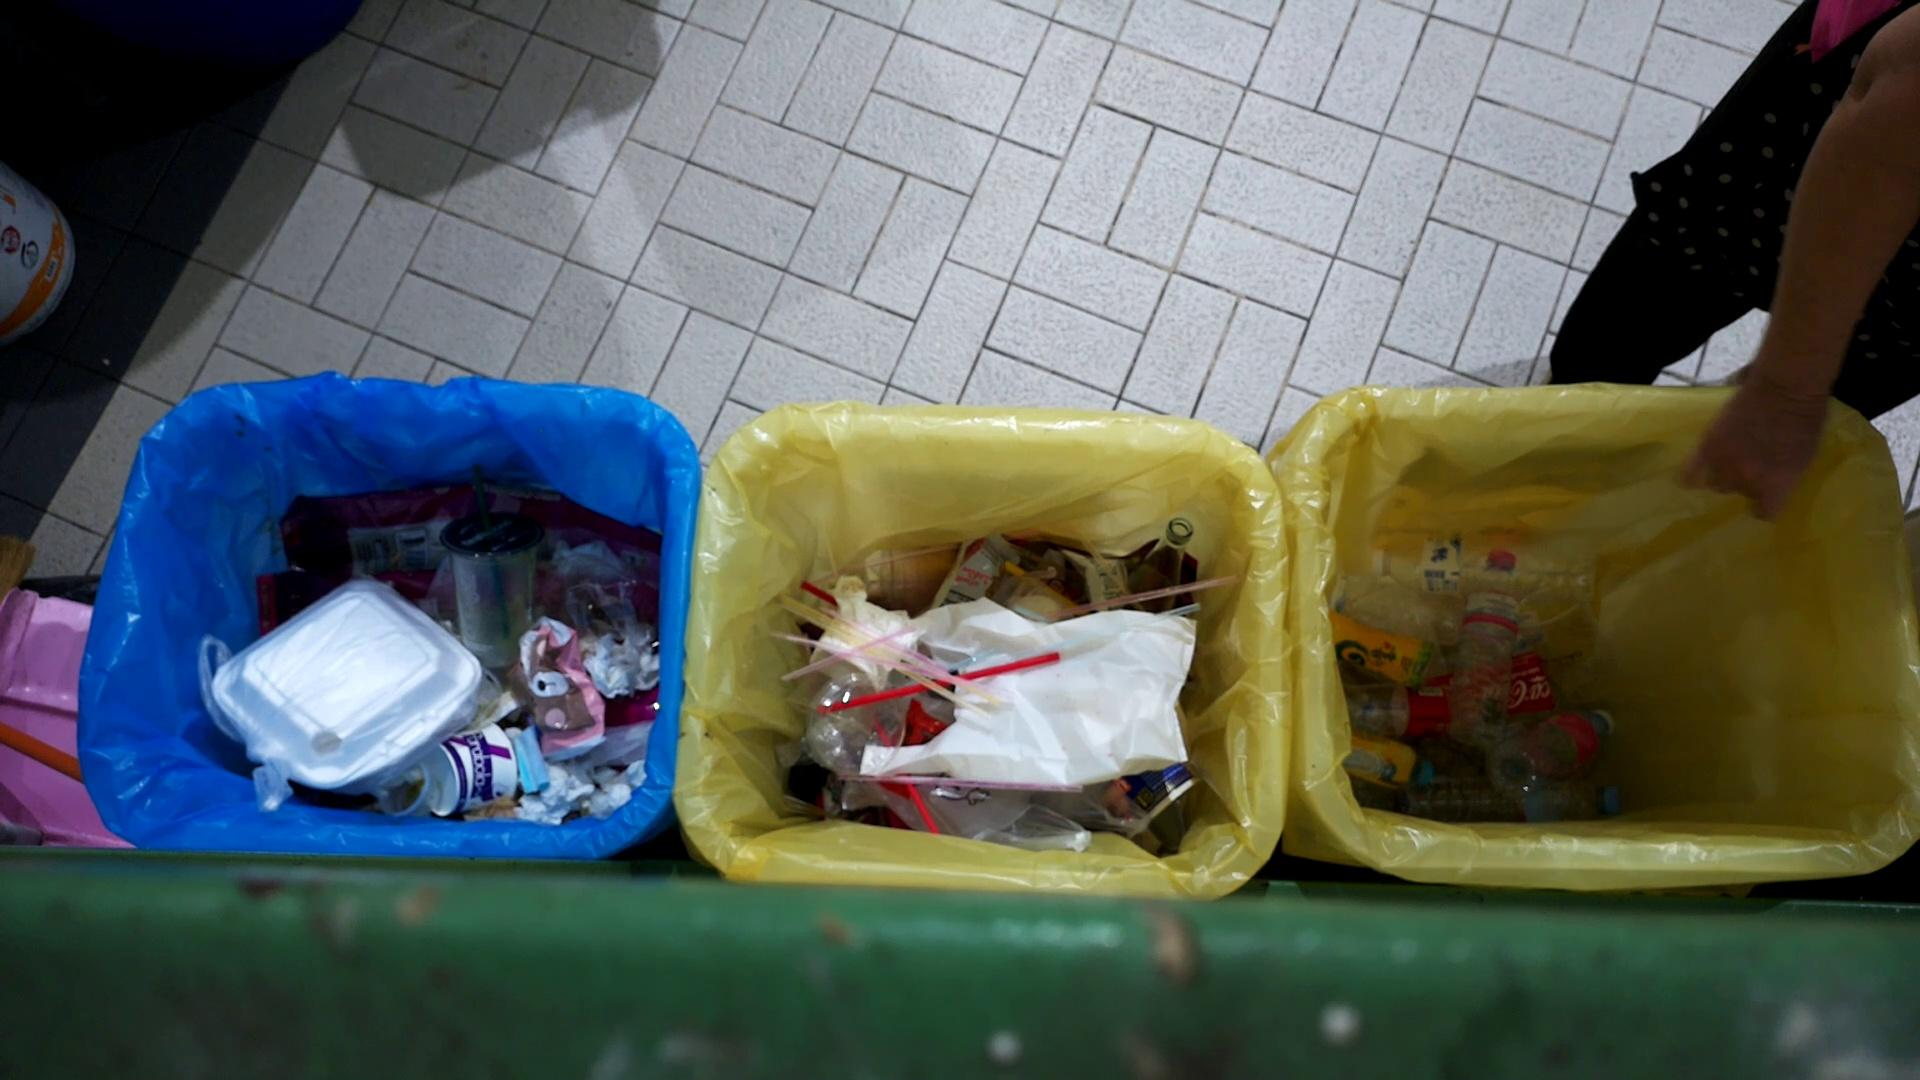filled plastic bag: (189, 563, 487, 812)
food container: (411, 709, 520, 815), (372, 757, 436, 822)
plastic bag: (855, 596, 1196, 789)
plastic bottle: (1360, 522, 1607, 607), (1447, 542, 1534, 738), (1482, 703, 1621, 802), (1328, 599, 1440, 702), (1445, 766, 1639, 822), (1338, 725, 1433, 793)
plastic cup: (438, 505, 547, 667), (808, 666, 915, 778)
snack packaging: (508, 612, 616, 766)
straw: (781, 593, 1004, 709), (778, 603, 978, 712), (956, 603, 1203, 675), (818, 651, 1064, 721), (766, 628, 992, 692), (1035, 574, 1240, 625), (1065, 514, 1151, 620), (782, 622, 919, 684), (820, 607, 947, 673)
tissue paper: (550, 533, 624, 587), (588, 625, 638, 699), (529, 754, 592, 811), (510, 721, 553, 795), (582, 765, 640, 818), (638, 628, 662, 698), (514, 794, 568, 824)
